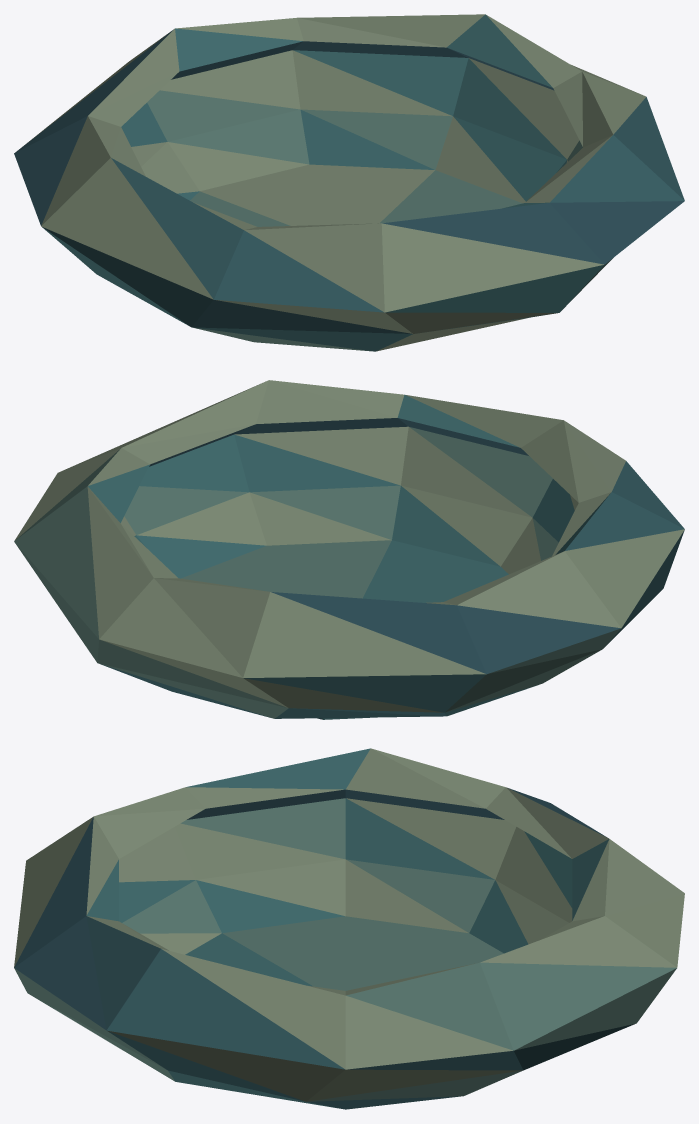
File: ash_tray.fbx
3 views of the same model, one above another, from view 1: azimuth 30°, elevation 25°; view 2: azimuth 150°, elevation 25°; view 3: azimuth 270°, elevation 25° (orthographic). The views are drawn at different scales.
Visible parts, largest first — view 1: ash_tray; view 2: ash_tray; view 3: ash_tray.
Boxes of the visible parts, box(x1,y1,x2,y2) form: ash_tray: box(14, 14, 684, 351); ash_tray: box(14, 380, 684, 719); ash_tray: box(14, 748, 684, 1109).
Size of the model in its own units: 15.83 by 4.69 by 15.28.
